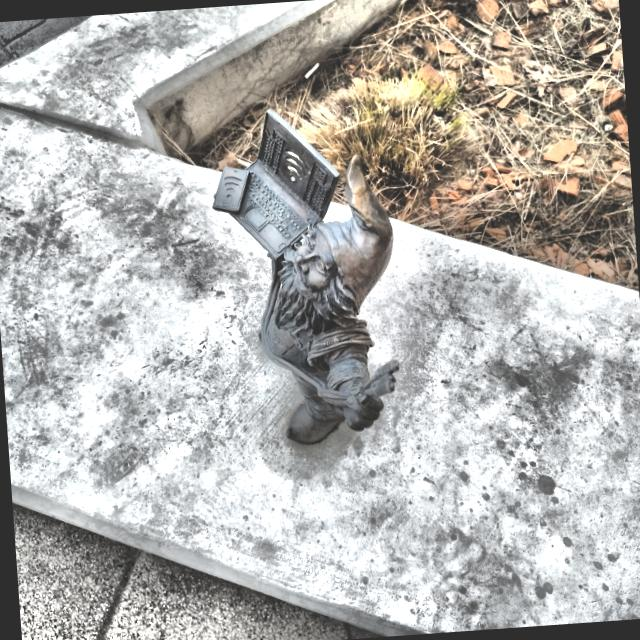Krasnal_Teleclaw: (213, 109, 399, 444)
